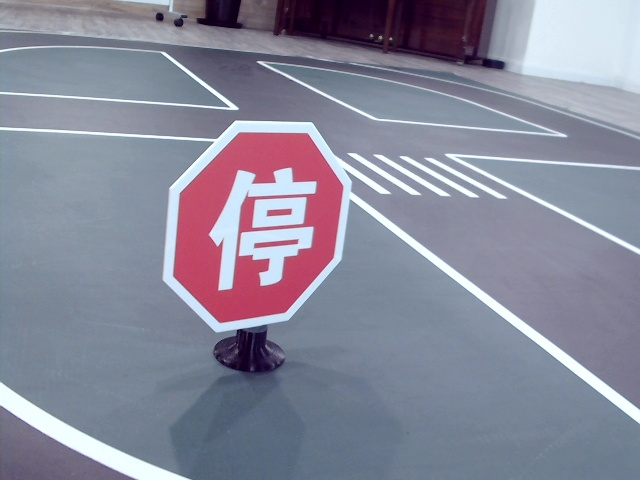stop: (209, 166, 311, 283)
